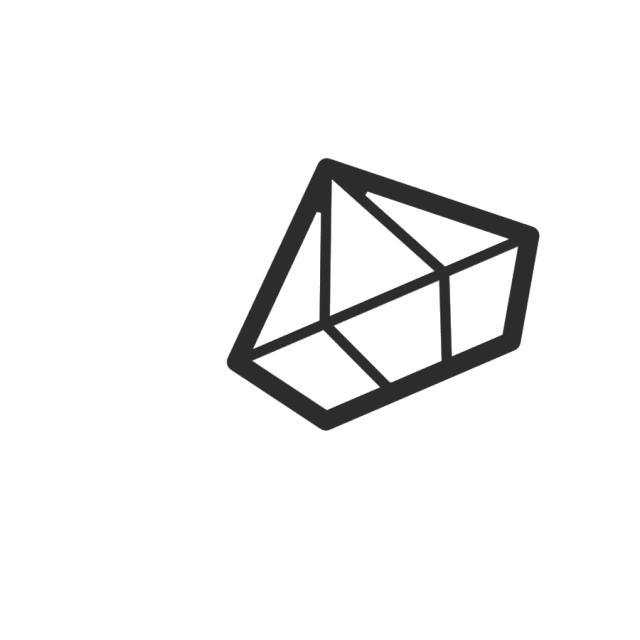diamond: (219, 152, 546, 441)
